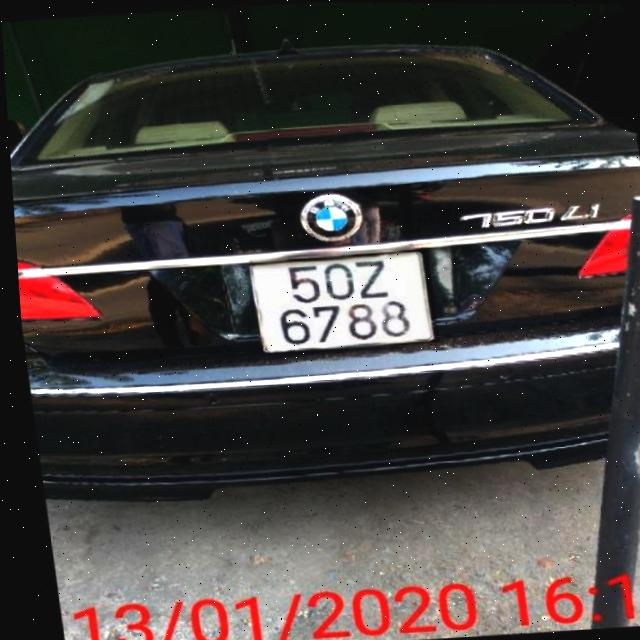car: (0, 0, 640, 509)
plate: (243, 242, 442, 363)
